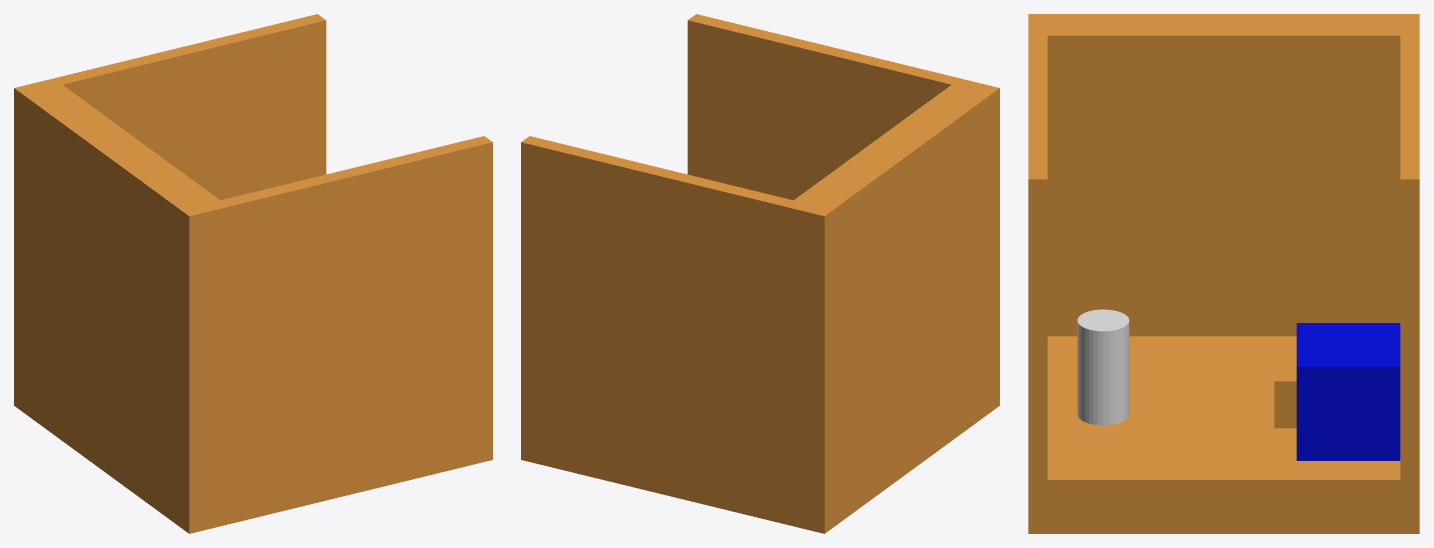
The model's file is testScene.glb.
3 renders of one model, left to right at view 1: azimuth 30°, elevation 25°; view 2: azimuth 150°, elevation 25°; view 3: azimuth 270°, elevation 25°, orthographic. The views are drawn at different scales.
Visible parts, largest first — view 1: TestRoom; view 2: TestRoom; view 3: TestRoom, Cube.001, Cylinder, Cube.
Part boxes in pixels (x1,y1,x2,y2): TestRoom: [14, 14, 492, 533]; TestRoom: [521, 14, 999, 533]; TestRoom: [1028, 14, 1419, 533]; Cube.001: [1296, 323, 1400, 460]; Cylinder: [1077, 309, 1129, 425]; Cube: [1274, 359, 1296, 428].
Size of the model in its own units: 7.54 by 7.54 by 7.54.
